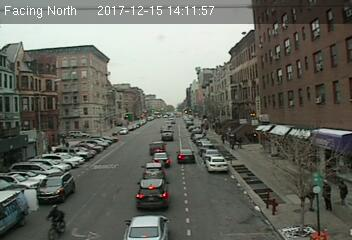bicycle: (45, 202, 70, 240)
car: (36, 171, 76, 202), (121, 215, 170, 240), (136, 177, 170, 211), (140, 162, 166, 178), (205, 155, 229, 172), (152, 151, 170, 167), (176, 149, 195, 163), (148, 141, 165, 154), (161, 129, 174, 140)
pedestrian: (318, 176, 334, 213), (334, 177, 348, 209)
truck: (1, 189, 28, 235)
